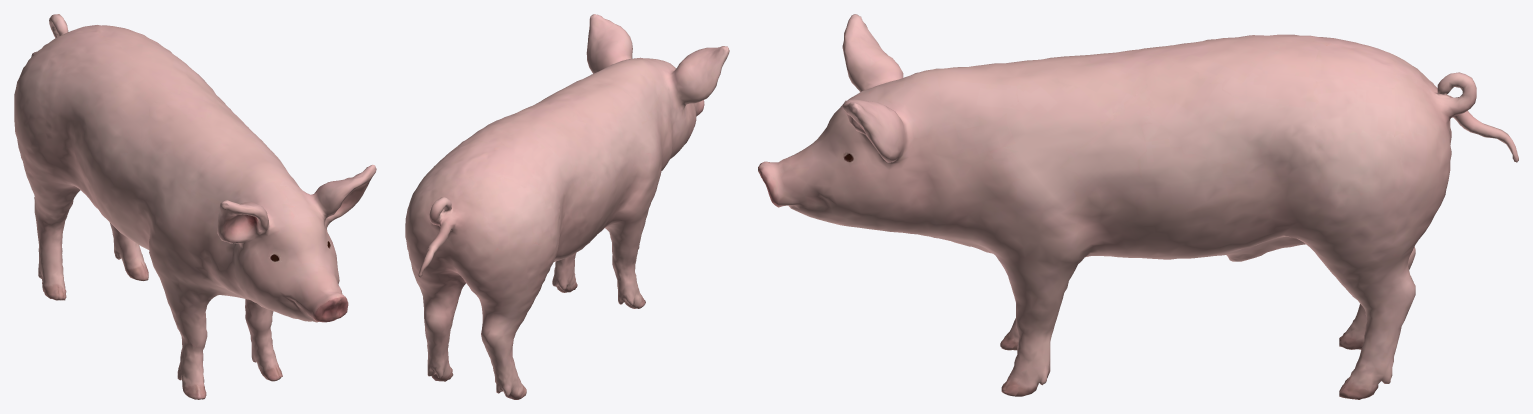
File: pig.glb
The picture shows the model from 3 angles, left to right: view 1: azimuth 30°, elevation 25°; view 2: azimuth 150°, elevation 25°; view 3: azimuth 270°, elevation 25°; orthographic projection. The views are drawn at different scales.
Size of the model in its own units: 0.5557 by 0.904 by 1.91.
Materials: 1 (1 with a texture image).
